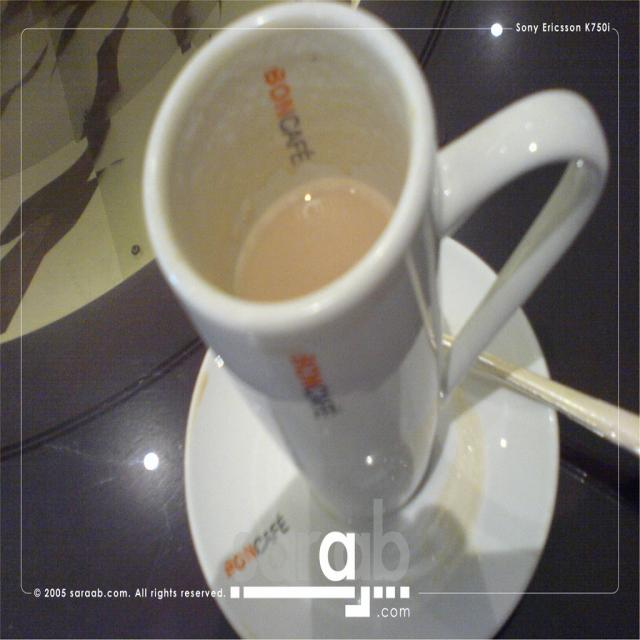Coffee: (168, 11, 590, 504)
Tea: (234, 182, 392, 302)
